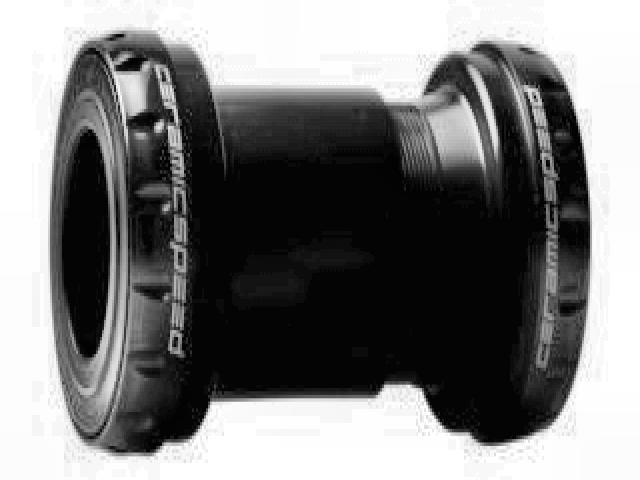bottom_bracket: (47, 23, 594, 458)
